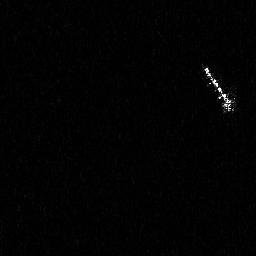ship: (204, 65, 236, 114)
